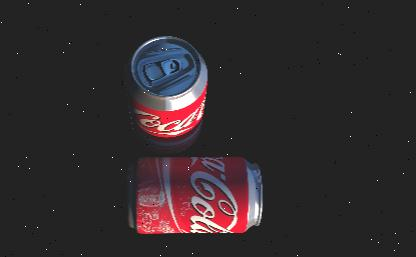Can: (124, 36, 207, 153), (135, 156, 262, 232)
